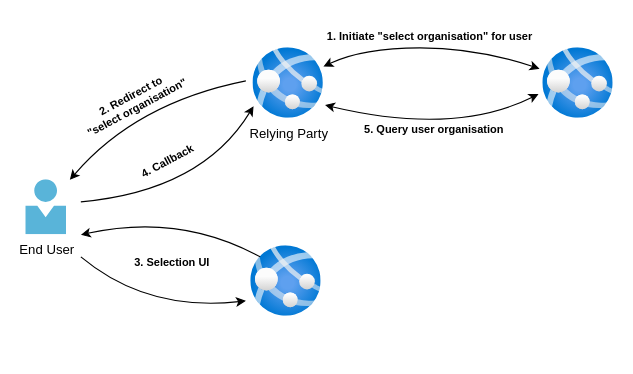
This 633x374 diagram has some shape labels left out. The shapes that lost their labels are listed below. From the top down, each one's centre as x and y in pixels, then its label:
At [577,82]: "DSI Public API".
At [285,280]: "DSI Select Organisation".
